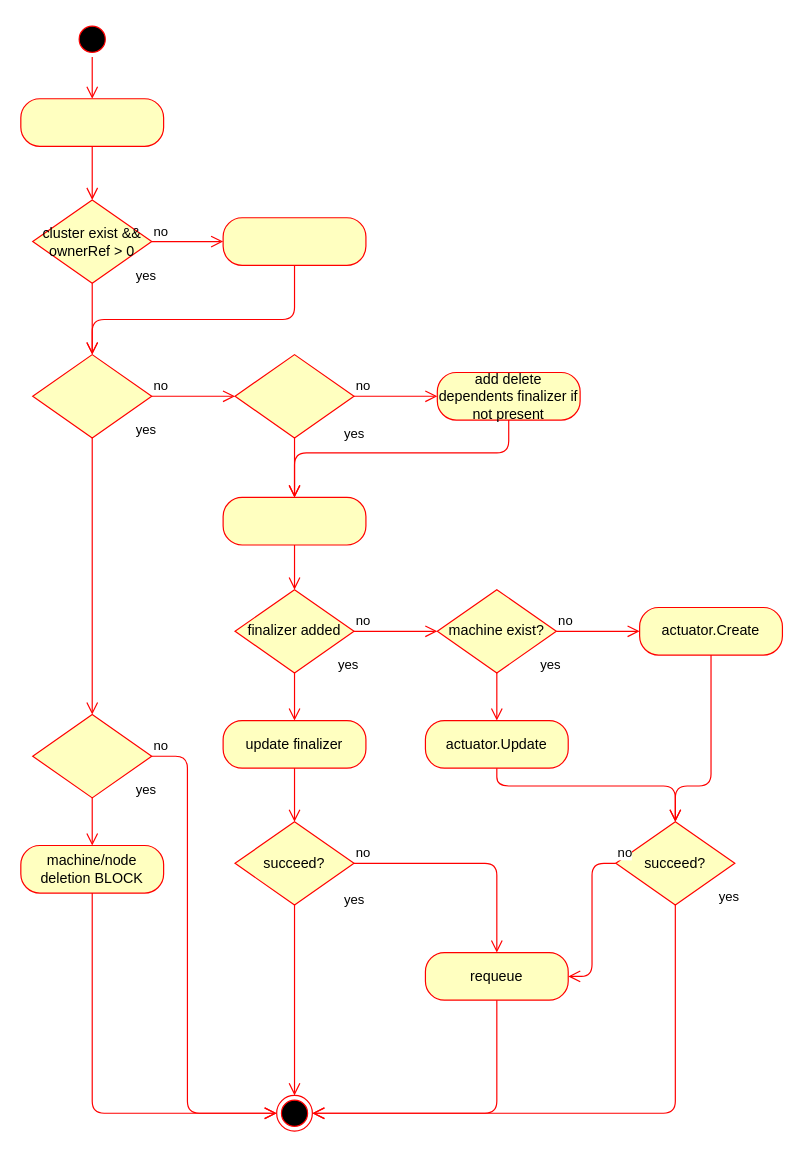
The diagram is 803 pixels wide and 1152 high, and some of its shapes have lost their labels. The shapes that lost their labels are listed below. From the top down, each one's centre as x and y in pixels, then its label:
At point (92, 122): "Get machine object".
At point (294, 241): "add cluster to ownerRef".
At point (92, 395): "deletion timestamp".
At point (294, 395): "cluster exist?".
At point (294, 520): "add machine finalizer if not present".
At point (92, 755): "machine needs deletion?".
